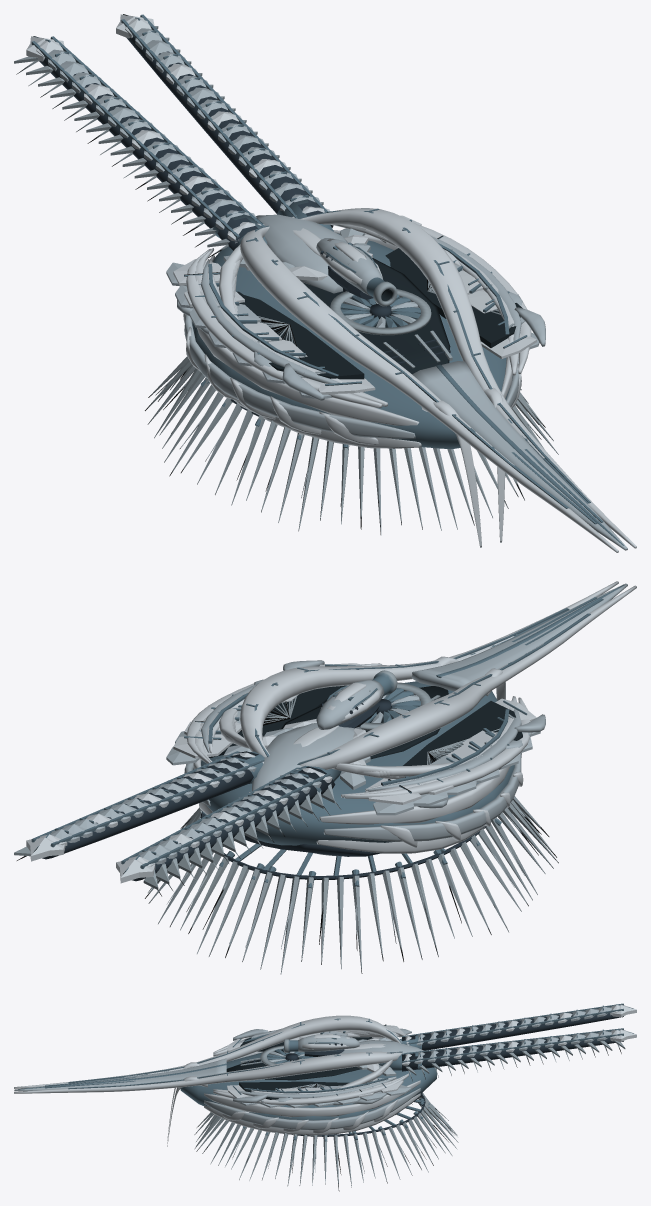
File: boss_mecha.glb
The picture shows the model from 3 angles, top to bottom: view 1: azimuth 30°, elevation 25°; view 2: azimuth 150°, elevation 25°; view 3: azimuth 270°, elevation 25°; orthographic projection. The views are drawn at different scales.
Parts seen in each view (by area): view 1: Boss_Mecha_Runtime; view 2: Boss_Mecha_Runtime; view 3: Boss_Mecha_Runtime.
Part boxes in pixels (<box>): Boss_Mecha_Runtime: <box>14,14,636,552</box>; Boss_Mecha_Runtime: <box>14,581,636,974</box>; Boss_Mecha_Runtime: <box>14,1003,636,1191</box>.
Size of the model in its own units: 14.3 by 9.06 by 39.99.
1 material, 1 textured.
